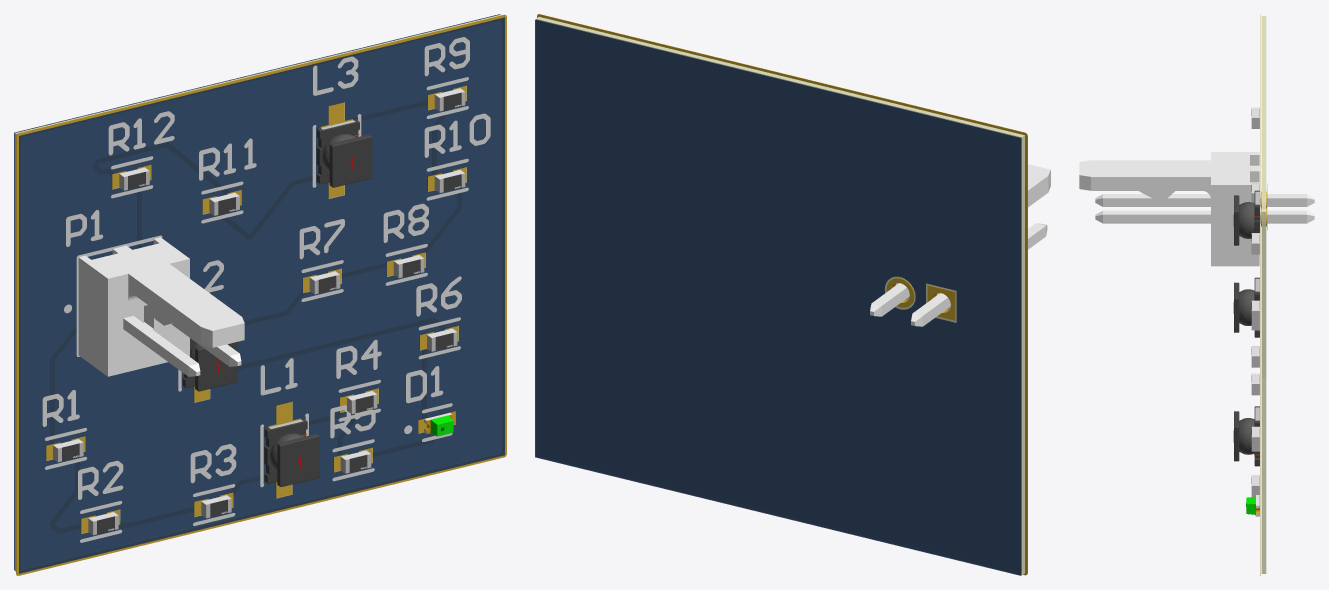
Rendered from TRANSIS1.obj.
3 views of the same model, side by side, from view 1: azimuth 30°, elevation 25°; view 2: azimuth 150°, elevation 25°; view 3: azimuth 270°, elevation 25° (orthographic). The views are drawn at different scales.
Parts seen in each view (by area): view 1: Solder_Top, ComponentBody.78, ComponentBody.22, ComponentBody.54, Track.1, Core, Track, ComponentBody.34, Track.3, Solder_Bottom, Silk.52, Silk.66 (+12 smaller); view 2: Solder_Bottom, Core, ComponentBody.78, Track.1, Track.3; view 3: ComponentBody.78, Core, ComponentBody.23, ComponentBody.55, ComponentBody.35, Track.2.
Boxes of the visible parts, x1=… form: Solder_Top: x1=19, y1=17, x2=504, y2=573; ComponentBody.78: x1=78, y1=237, x2=244, y2=376; ComponentBody.22: x1=329, y1=134, x2=372, y2=187; ComponentBody.54: x1=277, y1=434, x2=319, y2=486; Track.1: x1=16, y1=14, x2=506, y2=137; Core: x1=15, y1=14, x2=501, y2=571; Track: x1=16, y1=453, x2=506, y2=575; ComponentBody.34: x1=195, y1=341, x2=237, y2=391; Track.3: x1=16, y1=133, x2=19, y2=574; Solder_Bottom: x1=14, y1=14, x2=500, y2=570; Silk.52: x1=424, y1=113, x2=490, y2=157; Silk.66: x1=108, y1=111, x2=174, y2=155; Solder_Bottom: x1=535, y1=19, x2=1021, y2=575; Core: x1=536, y1=17, x2=1024, y2=575; ComponentBody.78: x1=870, y1=164, x2=1050, y2=326; Track.1: x1=537, y1=14, x2=1027, y2=137; Track.3: x1=1024, y1=133, x2=1027, y2=574; ComponentBody.78: x1=1079, y1=152, x2=1314, y2=266; Core: x1=1261, y1=16, x2=1266, y2=573; ComponentBody.23: x1=1239, y1=202, x2=1254, y2=238; ComponentBody.55: x1=1239, y1=418, x2=1254, y2=454; ComponentBody.35: x1=1239, y1=289, x2=1254, y2=325; Track.2: x1=1260, y1=213, x2=1260, y2=574.
Bounding box in the file's own units: 3.04 × 2.62 × 1.53.
